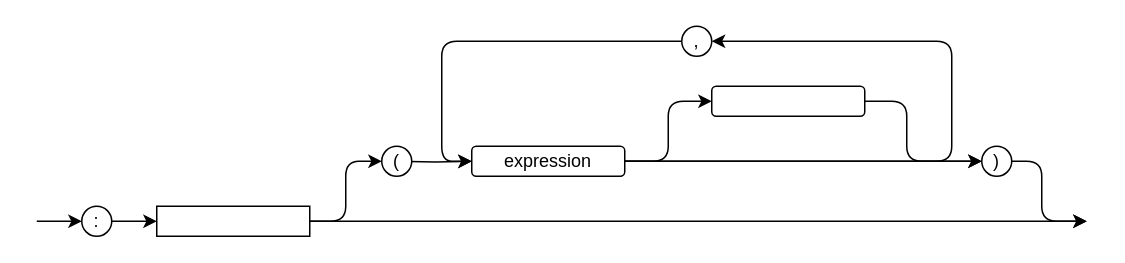
Image size: 1125x263. Some labels were removed from this diagram. The centre of each missing label's shape, as x and y in pixels:
" desc": point (787, 100)
sort: point (232, 220)
